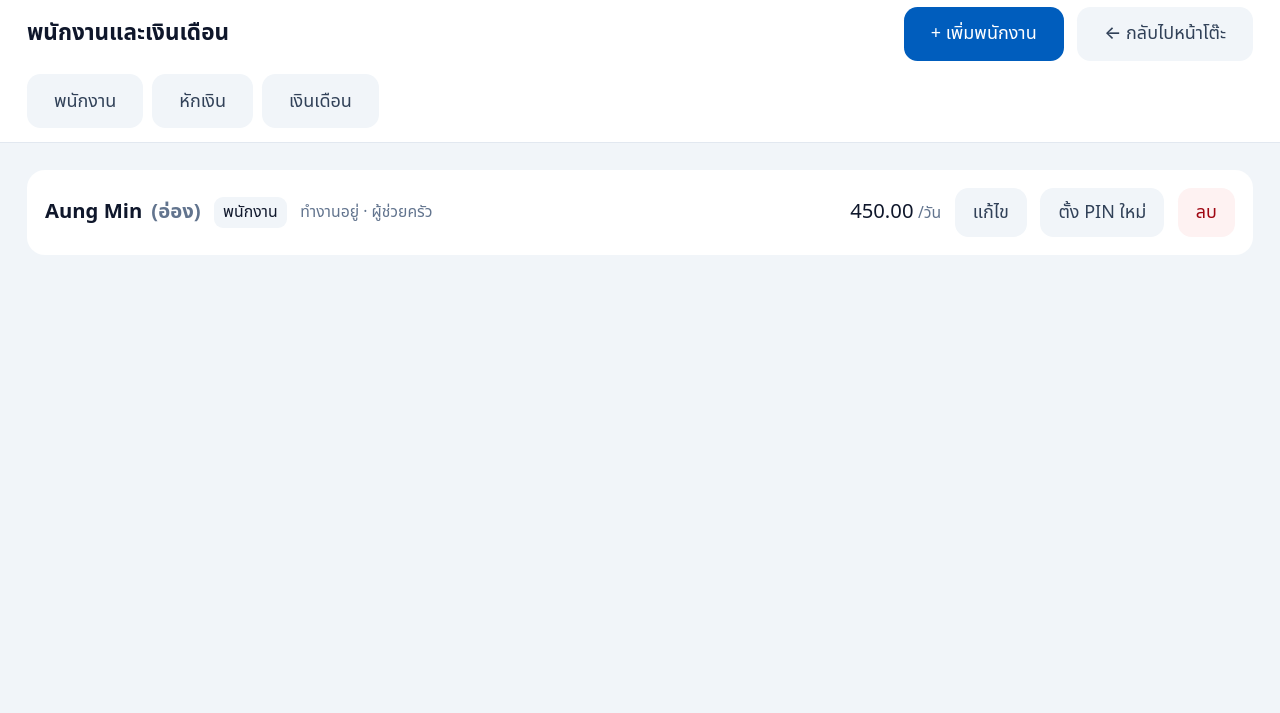
Test: editing › has no PIN field on the edit form at all
Check: the text "Aung Min" is shown, box [45, 196, 142, 226]
Step 1. Click the button "แก้ไข" → (991, 212), box [955, 188, 1027, 237]
(page scrolled)
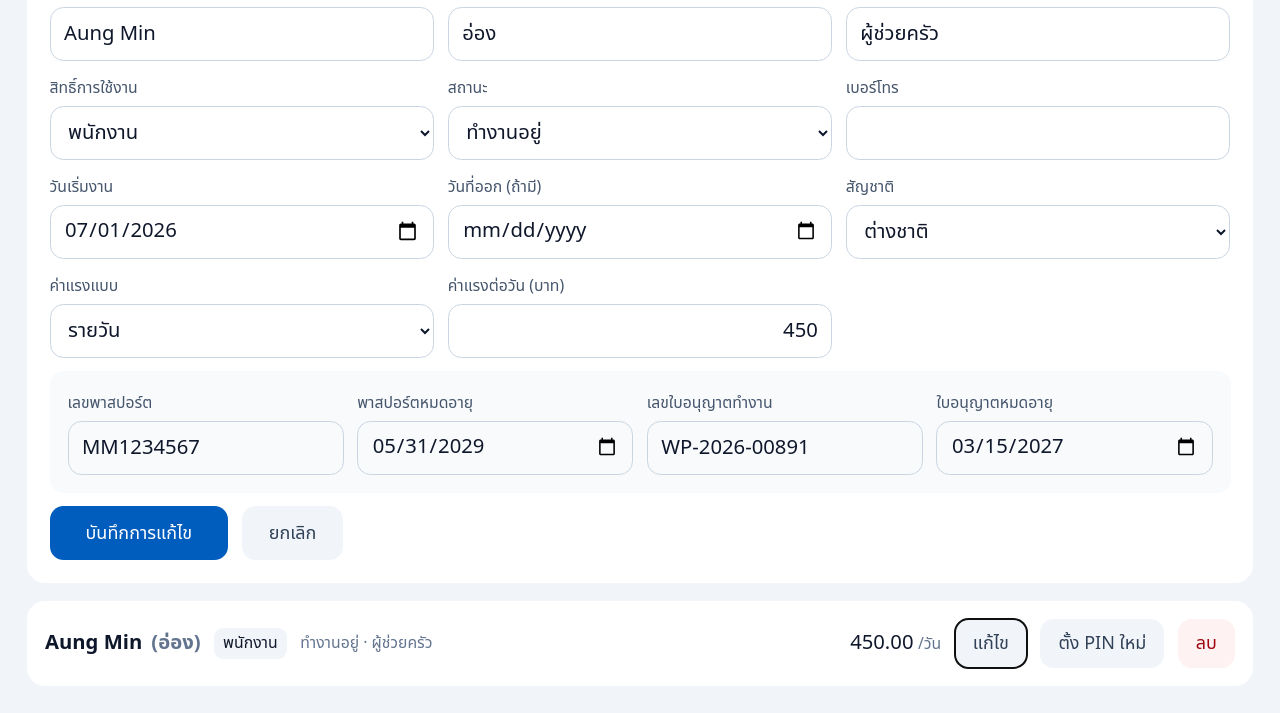
Check: the field labelled "PIN เข้าใช้งาน" is not shown
Step 2. Click the button "ยกเลิก" → (293, 533), box [242, 506, 343, 560]
(page scrolled)
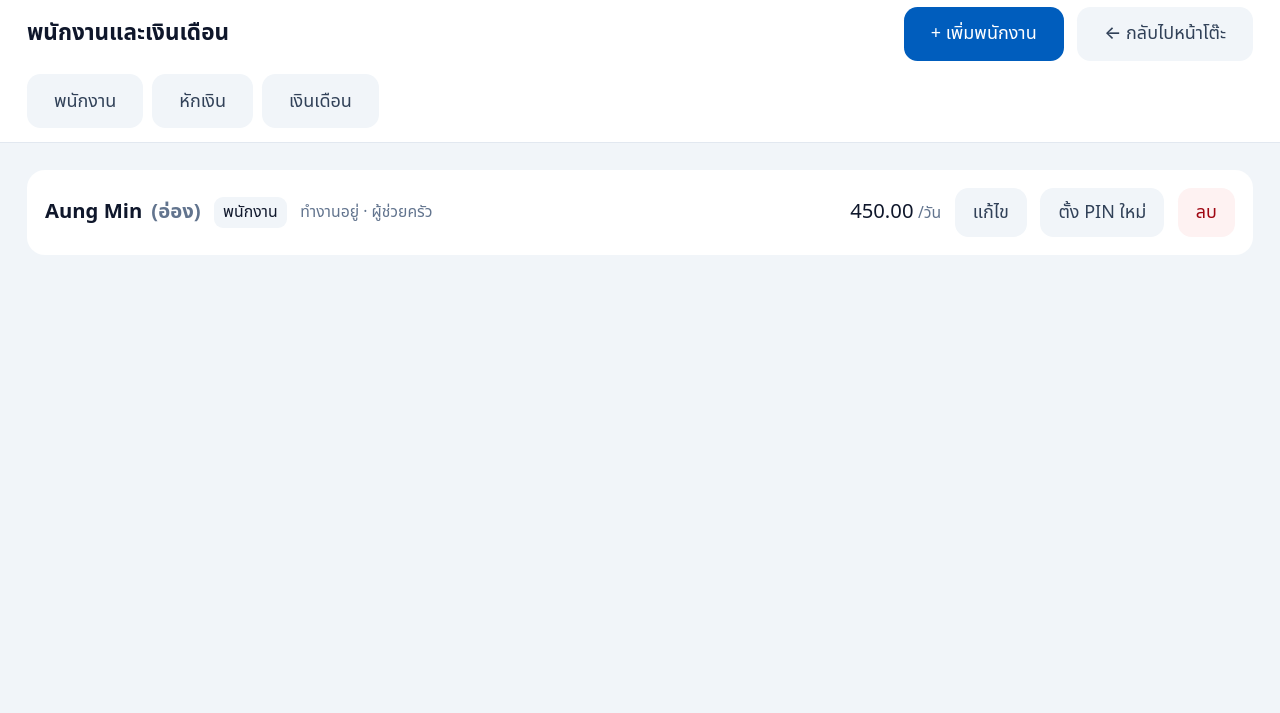
Step 3. Click the button "+ เพิ่มพนักงาน" → (984, 34), box [904, 6, 1064, 60]
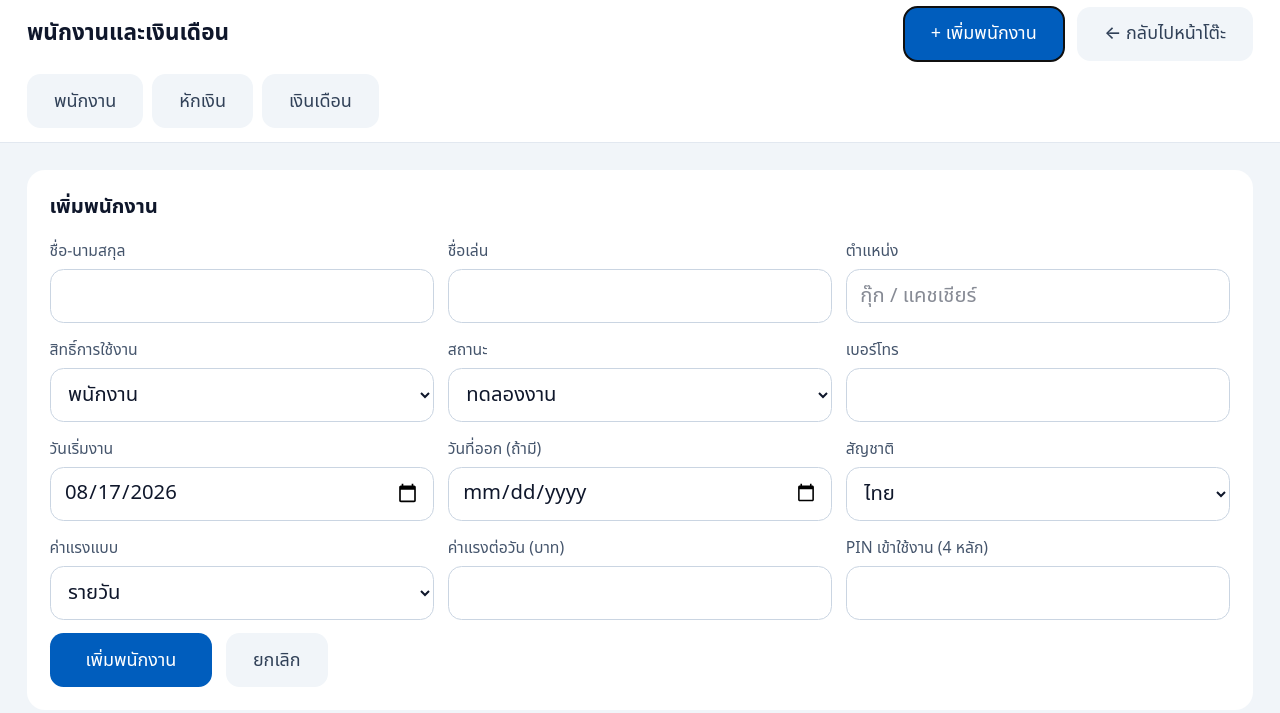
Check: the field labelled "PIN เข้าใช้งาน" is shown, box [846, 566, 1230, 620]
